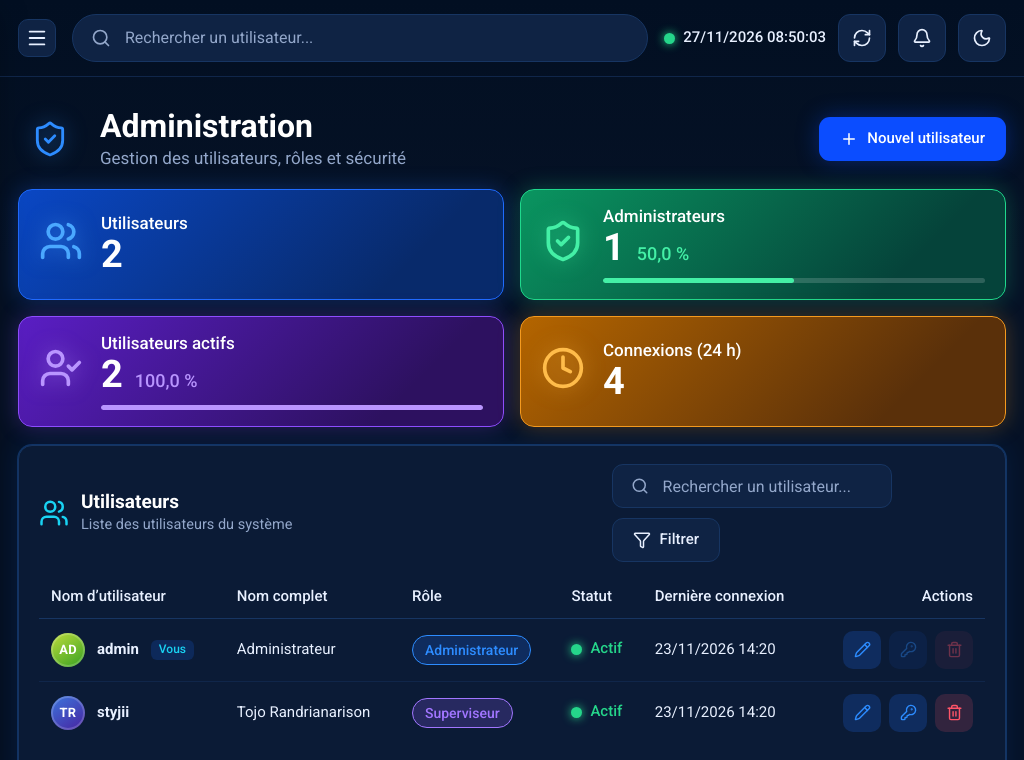
it: administration des utilisateurs › supprime après confirmation et signale un refus du serveur
Click the button named "Supprimer styjii" at (954, 713), box [935, 694, 973, 732]
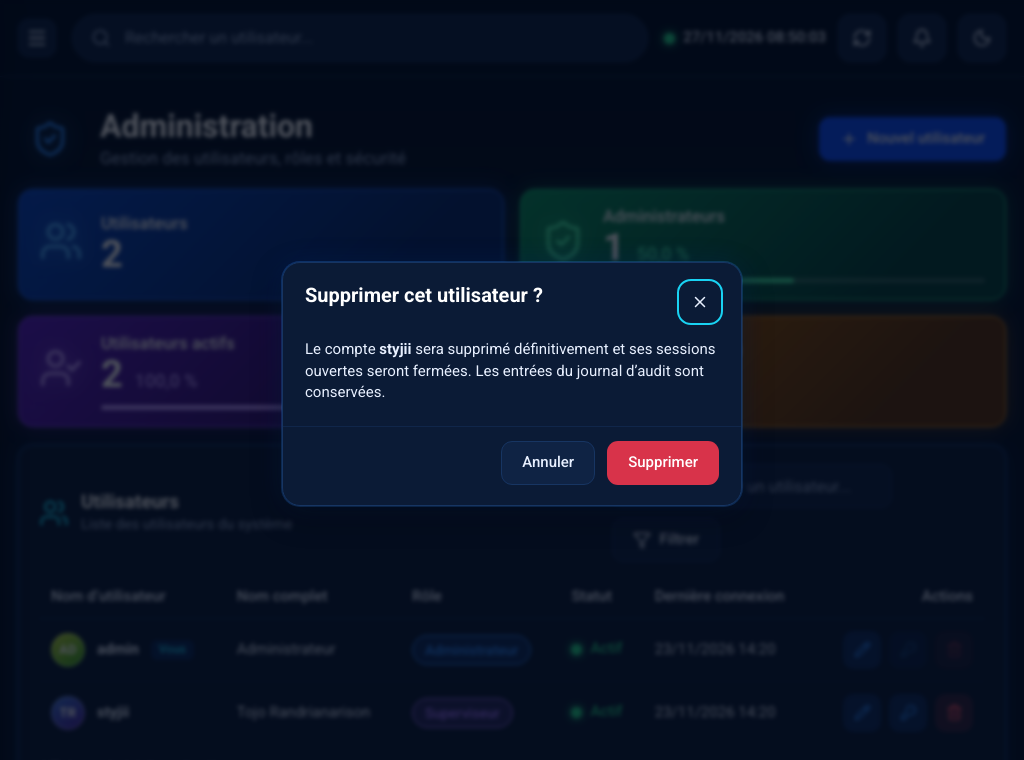
Expected: the text "sera supprimé définitivement" is shown, [305, 340, 716, 401]
Click the button "Supprimer" at (663, 463), box [607, 441, 719, 485]
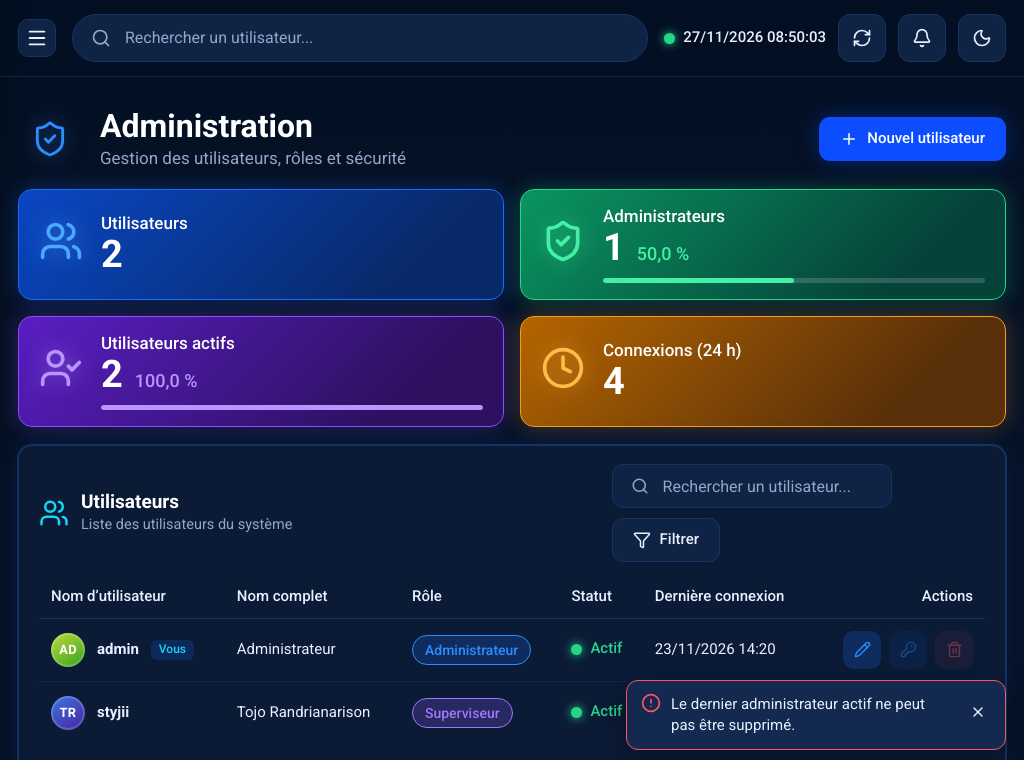
Expected: the text "Le dernier administrateur actif ne peut pas être supprimé." is shown, [671, 692, 949, 737]
